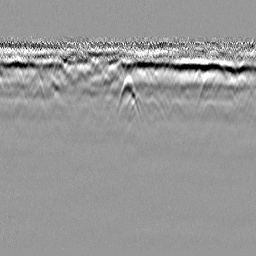cavity: (114, 72, 142, 123)
